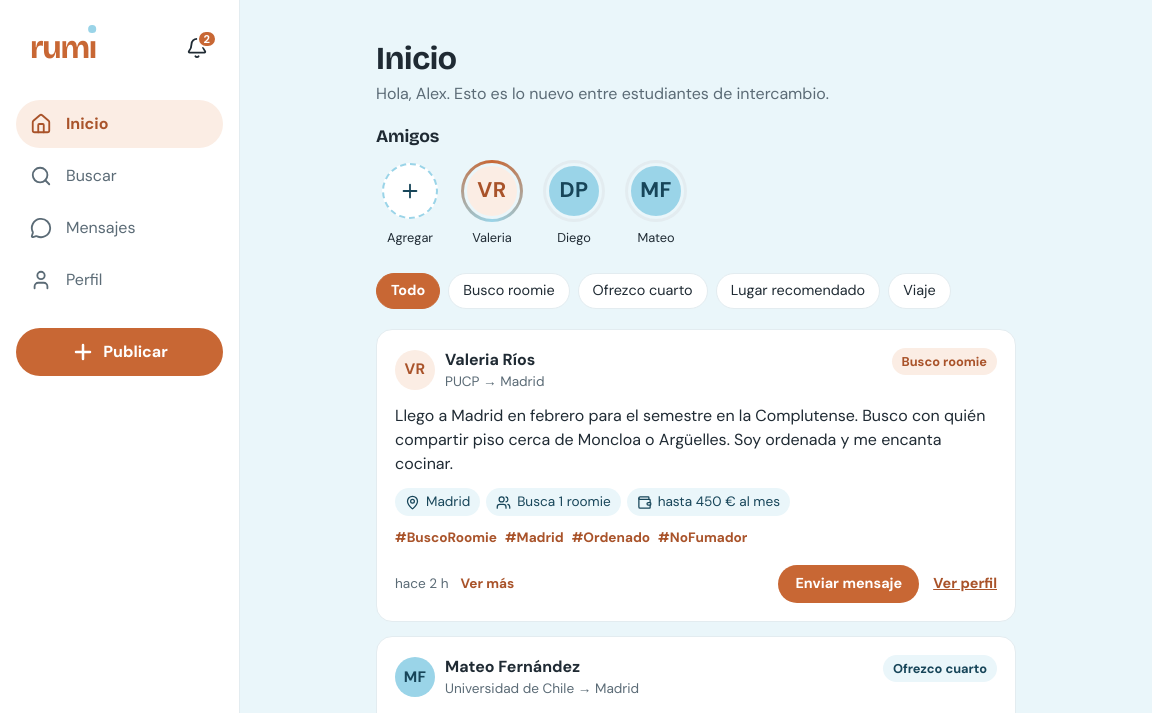
marca la sección activa y navega
The width and height of the screenshot is (1152, 713).
Click the link "Buscar". click: click(73, 176)
box: [30,165,117,187]
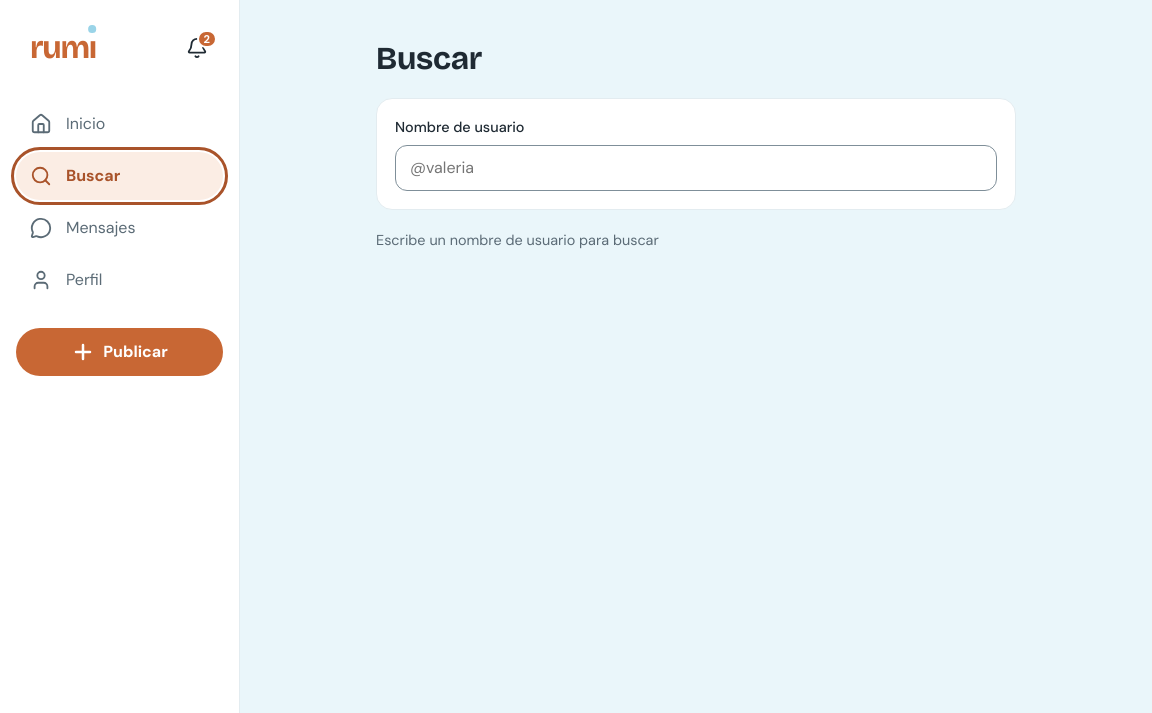
expect the heading "Buscar" is shown: met, box [376,39,482,78]
